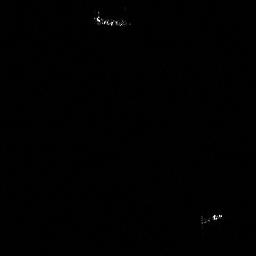ship: (91, 10, 133, 29), (198, 209, 225, 226)
